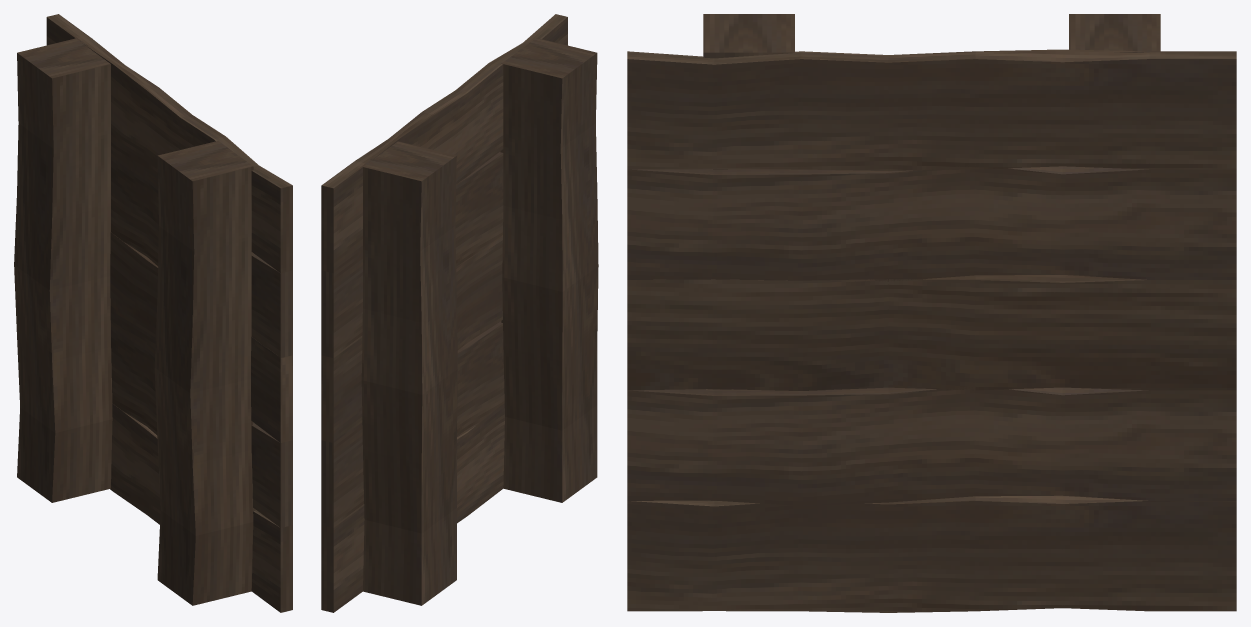
Rendered from wooden_plank_panel_100x100.glb.
3 renders of one model, left to right at view 1: azimuth 30°, elevation 25°; view 2: azimuth 150°, elevation 25°; view 3: azimuth 270°, elevation 25°, orthographic. The views are drawn at different scales.
Parts seen in each view (by area): view 1: Wooden_Plank_100x20x3_A.002; view 2: Wooden_Plank_100x20x3_A.002; view 3: Wooden_Plank_100x20x3_A.002.
Part boxes in pixels (bbox=[...]): Wooden_Plank_100x20x3_A.002: bbox=[14, 14, 292, 612]; Wooden_Plank_100x20x3_A.002: bbox=[321, 14, 598, 612]; Wooden_Plank_100x20x3_A.002: bbox=[627, 14, 1236, 612].
Bounding box in the file's own units: 0.1793 × 1.01 × 1.
1 material, 1 textured.
